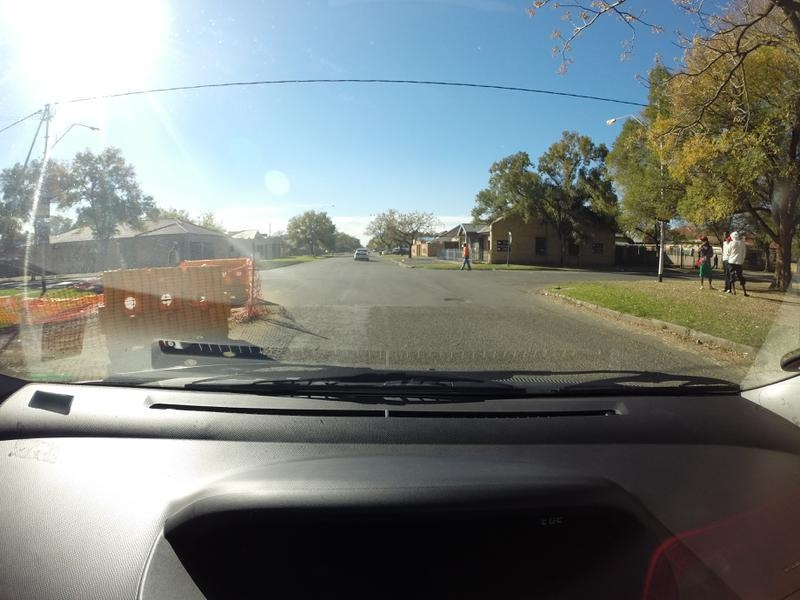pothole: (433, 291, 467, 311)
